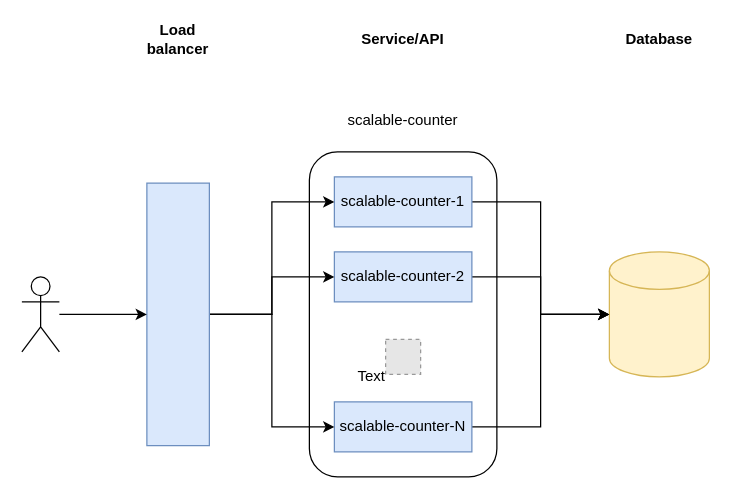
Some shapes in this 731 by 499 pixel diagram are drawn without their labels. Grey dashed boxes stand in for pictures. The shapes that lost their labels are listed below. From the top down, each one's box as (x1, y1, x2, y2) in pixels, then its label:
(146, 182, 209, 446): traefik
(608, 251, 709, 377): cassandra
